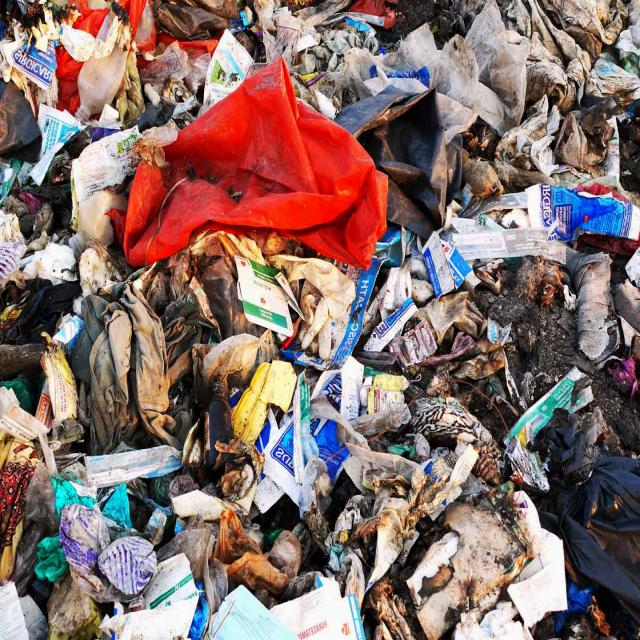garbage: (2, 1, 640, 640)
